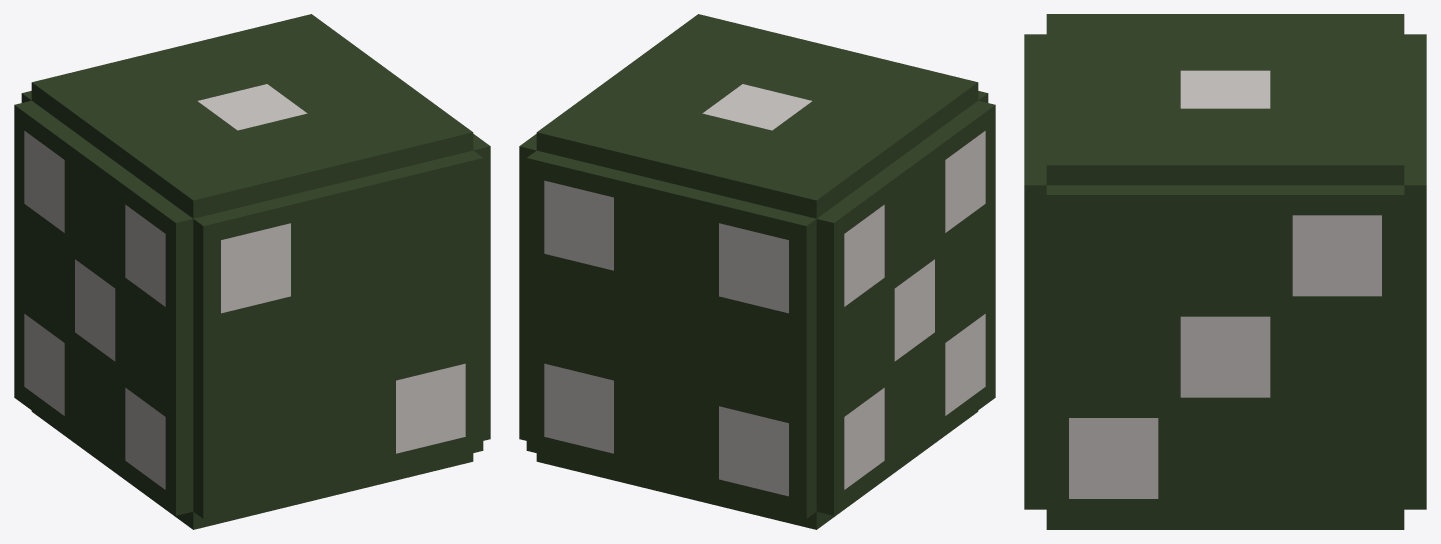
Rendered from dice-v2-green-white.gltf.
3 renders of one model, left to right at view 1: azimuth 30°, elevation 25°; view 2: azimuth 150°, elevation 25°; view 3: azimuth 270°, elevation 25°, orthographic. The views are drawn at different scales.
Visible parts, largest first — view 1: Untitled; view 2: Untitled; view 3: Untitled.
Boxes of the visible parts, <box> form: Untitled: <box>14,14,490,529</box>; Untitled: <box>519,14,995,529</box>; Untitled: <box>1024,14,1426,529</box>.
Bounding box in the file's own units: 1.8 × 1.8 × 1.8.
1 material, 1 textured.
